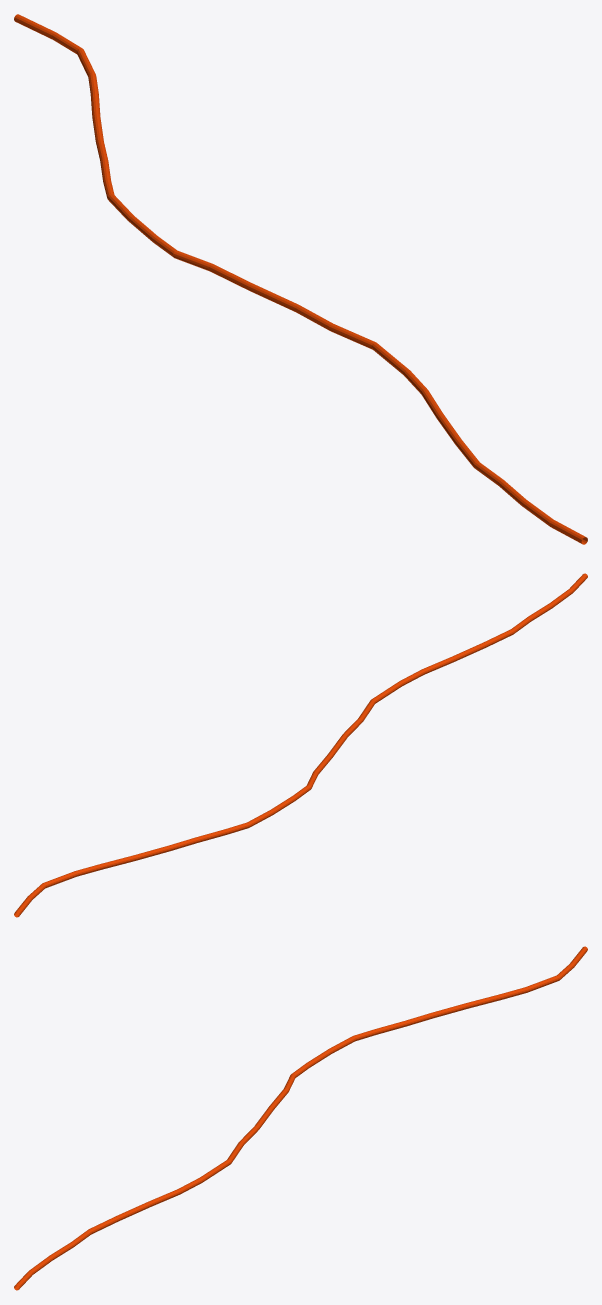
The model's file is Cable10.fbx.
The picture shows the model from 3 angles, top to bottom: view 1: azimuth 30°, elevation 25°; view 2: azimuth 150°, elevation 25°; view 3: azimuth 330°, elevation 25°; orthographic projection. The views are drawn at different scales.
Parts seen in each view (by area): view 1: Vert.009; view 2: Vert.009; view 3: Vert.009.
Part boxes in pixels (box(x1,y1,x2,y2)): Vert.009: box(14, 14, 587, 544); Vert.009: box(14, 573, 587, 917); Vert.009: box(14, 946, 587, 1290).
Bounding box in the file's own units: 40.27 × 2 × 331.
